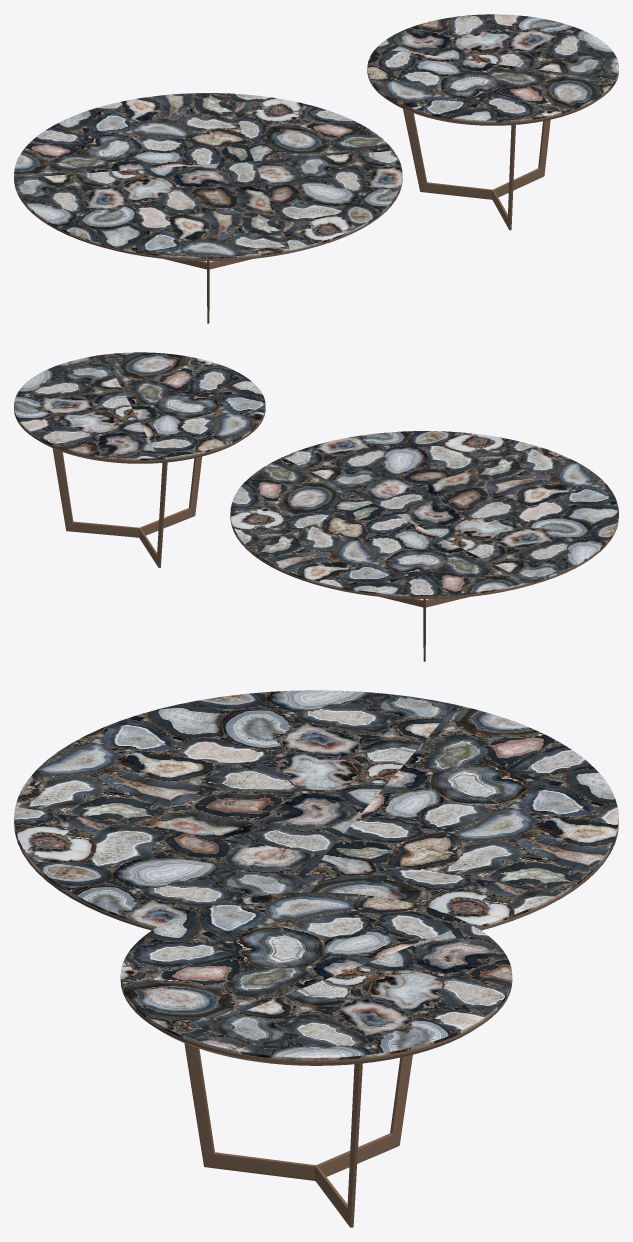
The model's file is SBH_Curiosity.glb.
3 views of the same model, one above another, from view 1: azimuth 30°, elevation 25°; view 2: azimuth 150°, elevation 25°; view 3: azimuth 270°, elevation 25° (orthographic). The views are drawn at different scales.
Visible parts, largest first — view 1: Curiosity; view 2: Curiosity; view 3: Curiosity.
Boxes of the visible parts, x1,y1,x2,y2 form: Curiosity: (14,14,618,323); Curiosity: (14,352,618,661); Curiosity: (14,690,618,1227).
Size of the model in its own units: 2 by 0.4501 by 1.2.
Materials: 2 (1 with a texture image).
